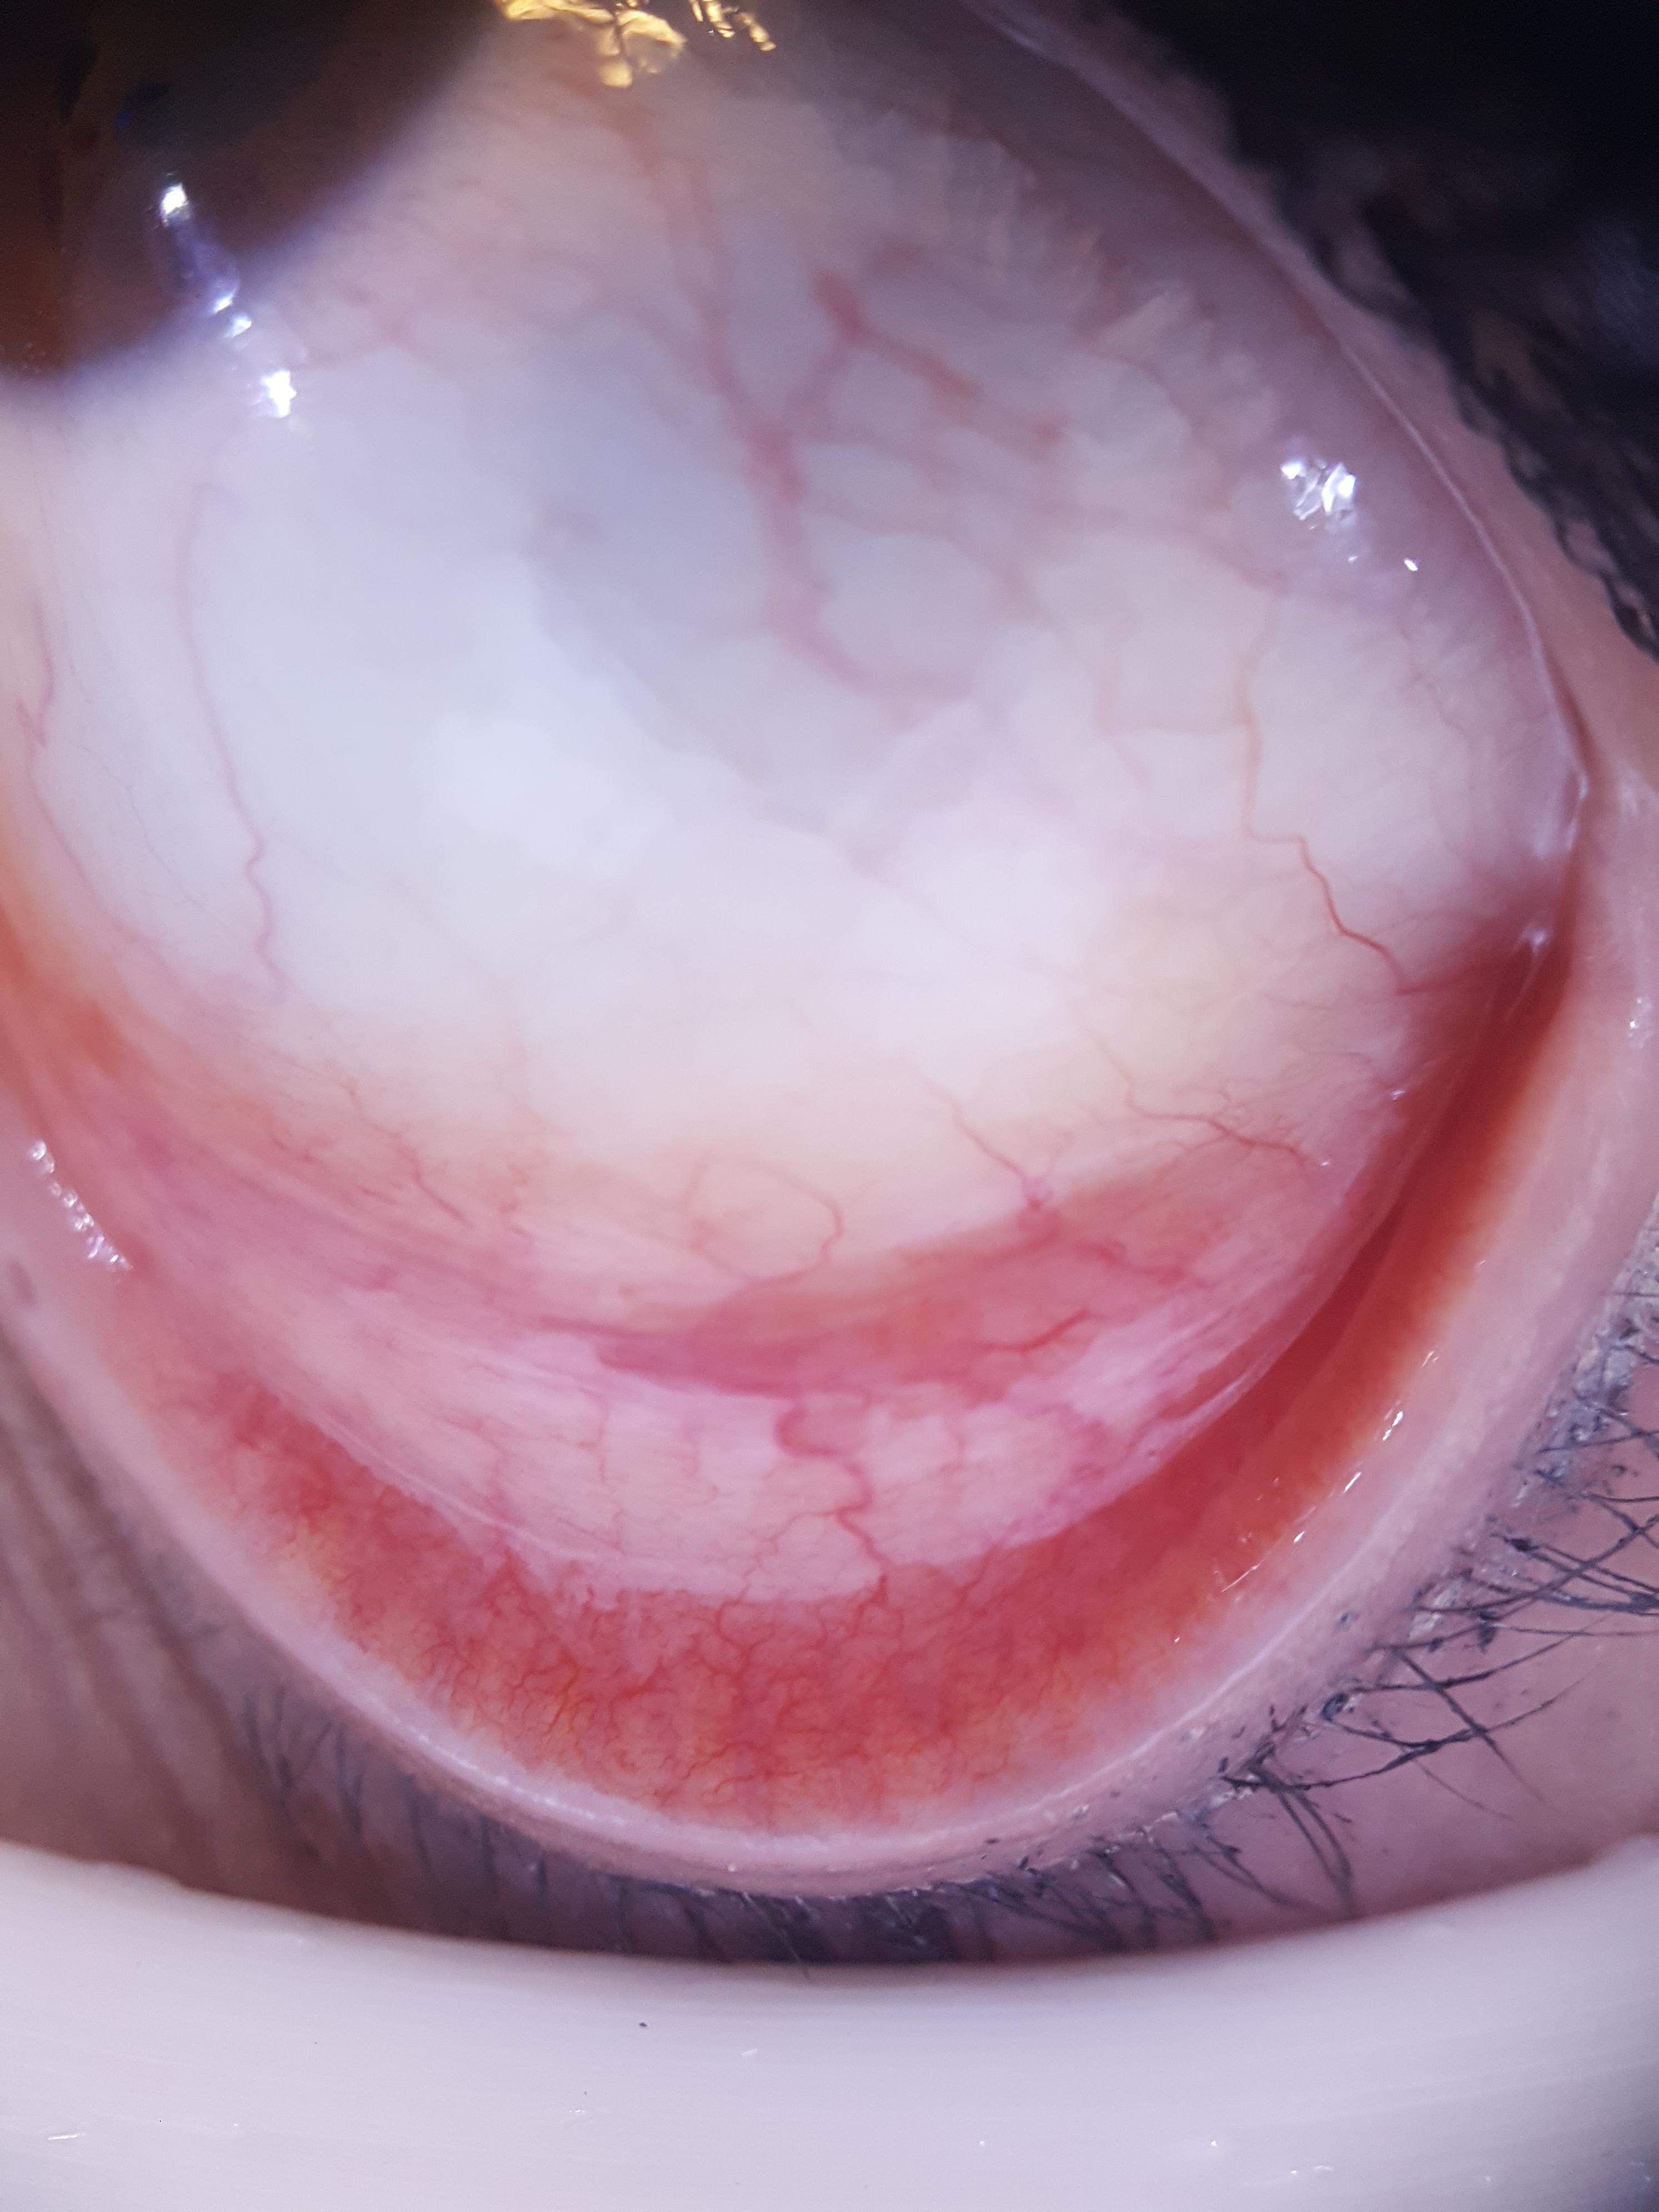forniceal: (3, 920, 1436, 1580)
forniceal_palpebral: (3, 907, 1553, 1808)
palpebral: (131, 1014, 1546, 1808)
